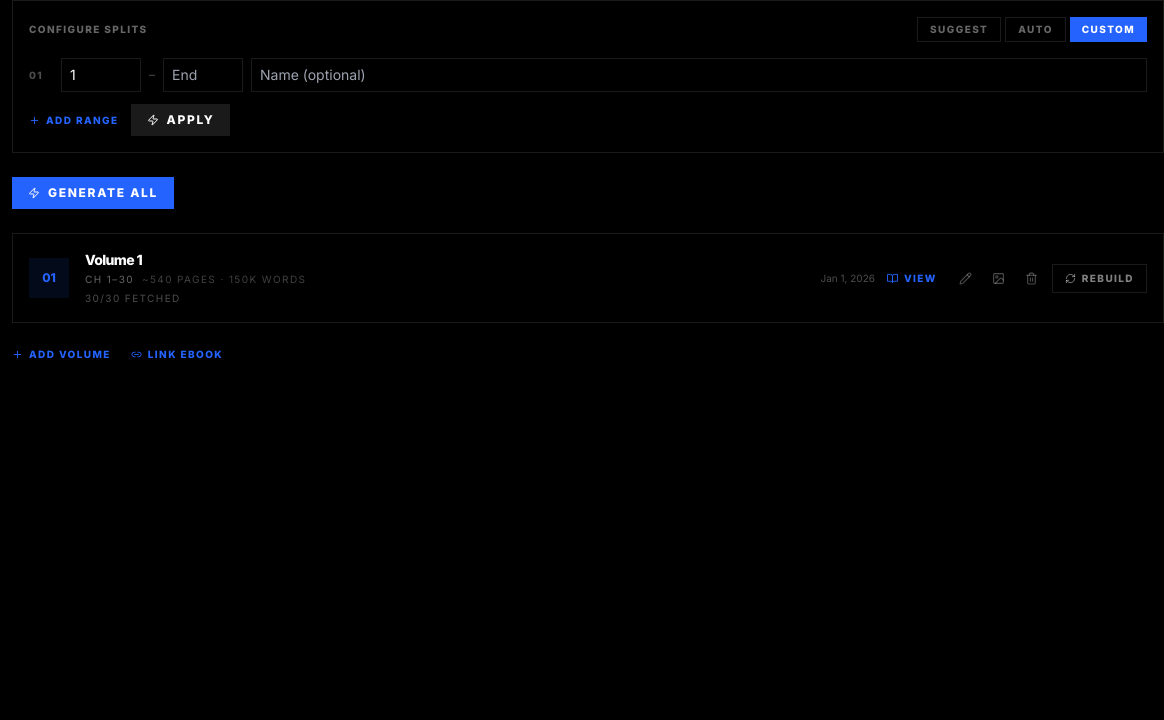
Test case: Volume suggestions › asks for 500–600 page volumes and lists them after built ones
What coordinates should you click on to do the following:
click the button "Suggest"
I would click on:
 (959, 30)
Its box is x1=917 y1=17 x2=1001 y2=42.
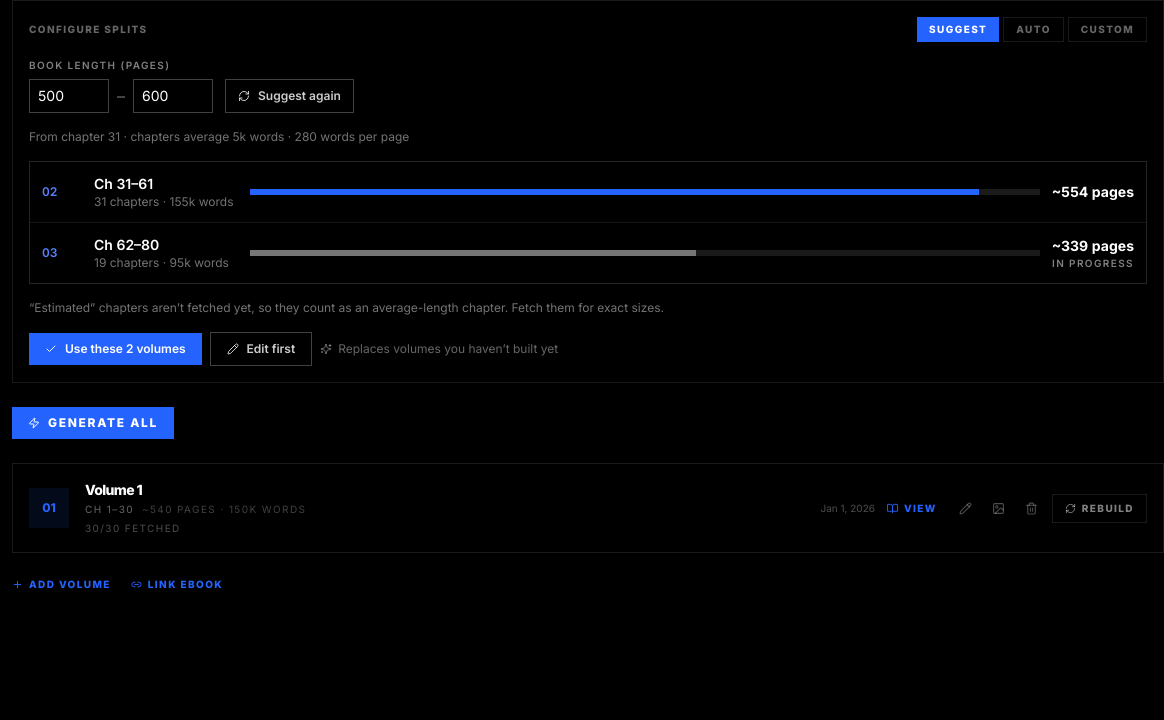
Expected: the number of list items with test id "volume-suggestion" is 2, x1=30 y1=162 x2=1146 y2=223; x1=42 y1=236 x2=1134 y2=270
Expected: the list item with test id "volume-suggestion" shows "02", x1=42 y1=184 x2=58 y2=199
Expected: the list item with test id "volume-suggestion" shows "Ch 31–61", x1=30 y1=162 x2=1146 y2=223
